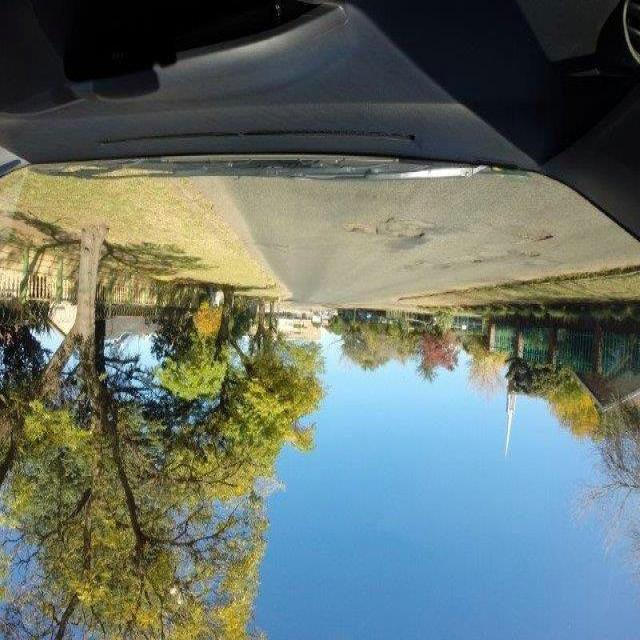lubang: (342, 209, 428, 247), (498, 225, 554, 242), (507, 244, 548, 262), (469, 261, 478, 267)
